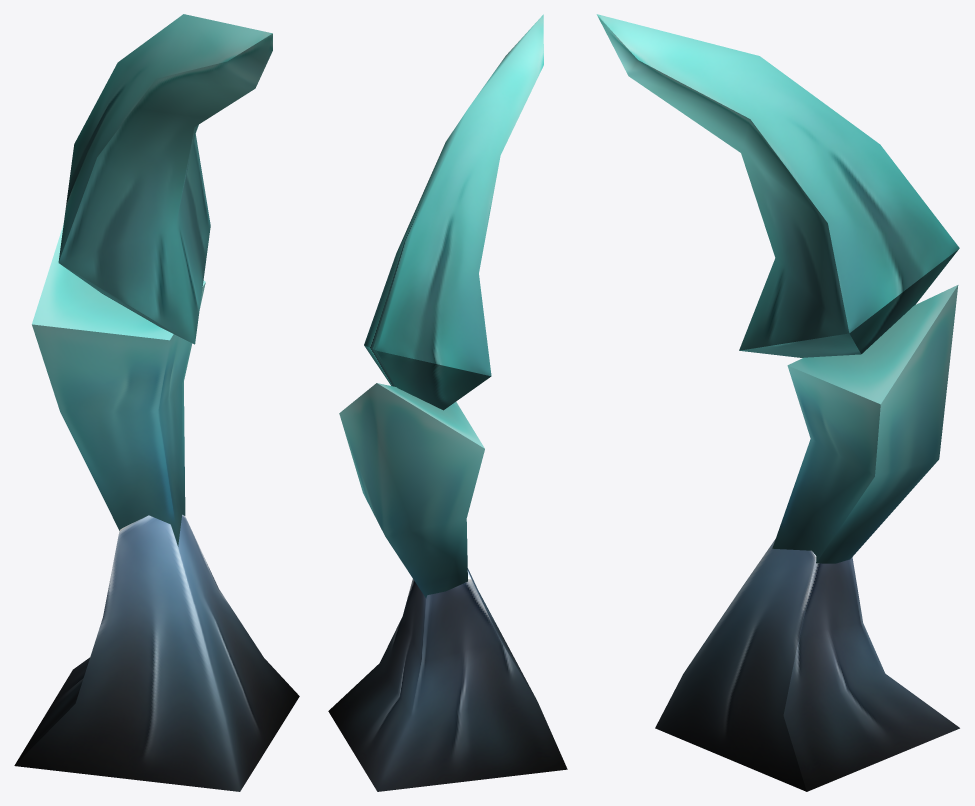
The model's file is DragonVillage_Prop_03.FBX.
3 views of the same model, side by side, from view 1: azimuth 30°, elevation 25°; view 2: azimuth 150°, elevation 25°; view 3: azimuth 270°, elevation 25° (orthographic). The views are drawn at different scales.
Visible parts, largest first — view 1: DragonVillage_Prop_03; view 2: DragonVillage_Prop_03; view 3: DragonVillage_Prop_03.
Part boxes in pixels (x1,y1,x2,y2): DragonVillage_Prop_03: (14, 14, 299, 791); DragonVillage_Prop_03: (328, 14, 567, 791); DragonVillage_Prop_03: (596, 14, 959, 791).
Size of the model in its own units: 153 by 400 by 185.
